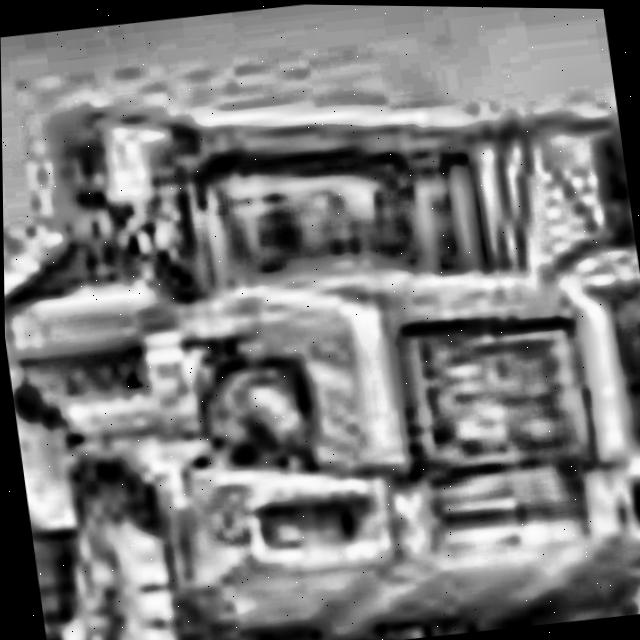dump_truck: (0, 14, 640, 640)
